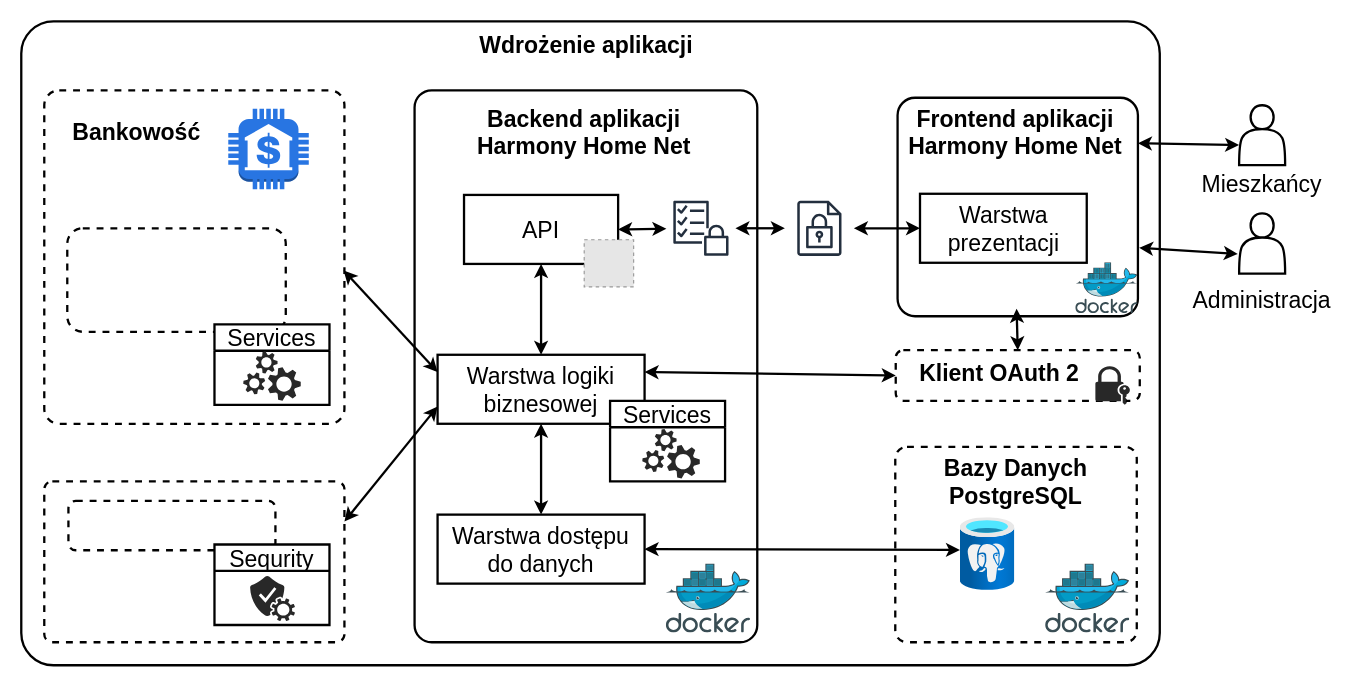
The diagram is 1350 pixels wide and 685 high, and some of its shapes have lost their labels. Grey dashed boxes stand in for pictures. The shapes that lost their labels are listed below. From the top down, each one's centre as x and y in pixels, then its label:
At pixel 700 227: "Checklist security".
At pixel 818 227: "Encrypted data".
At pixel 176 279: "Systemy urządzeń zewnętrznych np.: liczniki".
At pixel 171 525: "Serwer OAuth 2".
